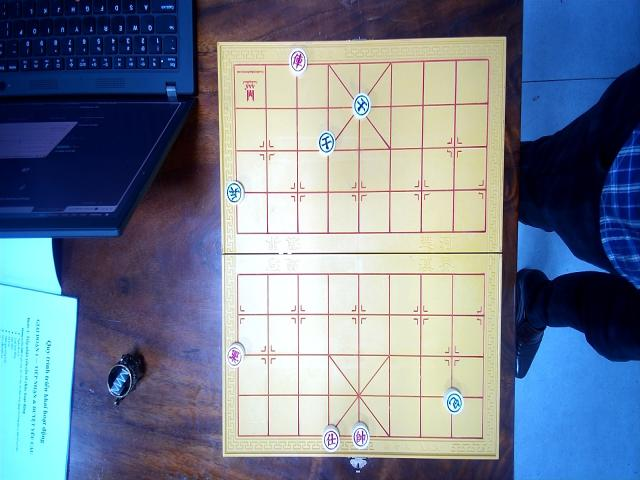piece: (288, 47, 308, 77), (442, 387, 463, 415), (321, 424, 341, 451), (350, 422, 370, 449), (226, 341, 246, 368), (352, 92, 370, 119), (225, 179, 244, 204), (317, 129, 335, 155)
